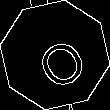O_NW: (23, 22, 87, 88)
